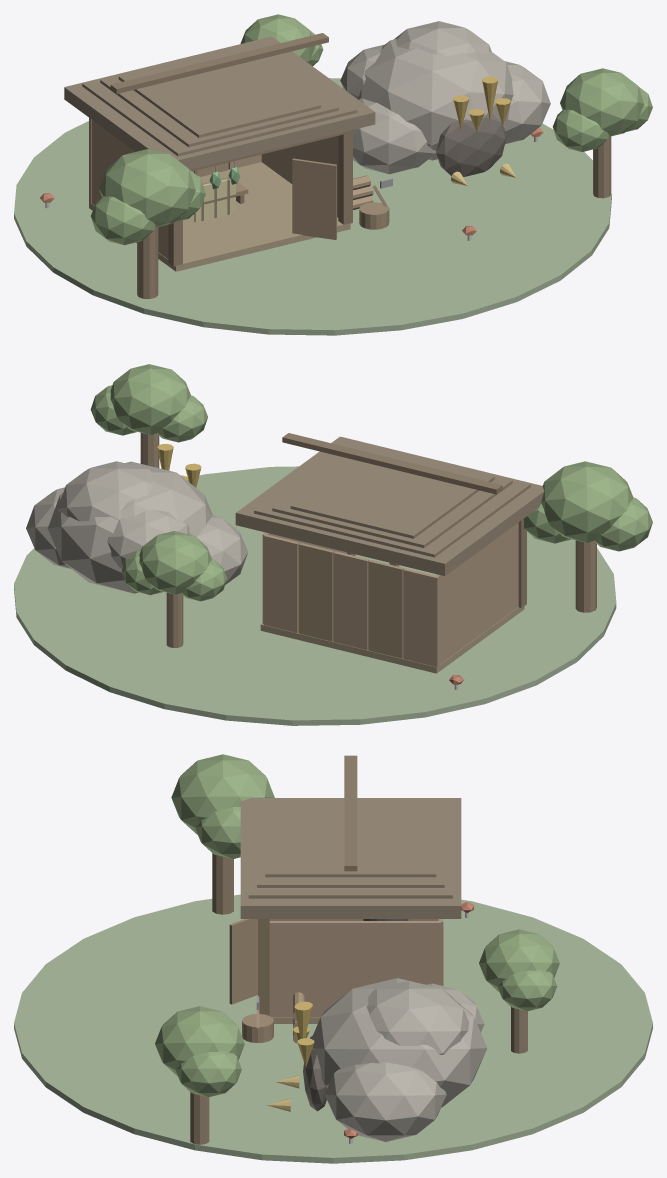
Rendered from yamanba.glb.
3 views of the same model, one above another, from view 1: azimuth 30°, elevation 25°; view 2: azimuth 150°, elevation 25°; view 3: azimuth 270°, elevation 25° (orthographic). The views are drawn at different scales.
Visible parts, largest first — view 1: part_10, part_06, part_14, part_05, part_13, part_04, part_08, part_15, part_01, part_07, part_20, part_23 (+1 smaller); view 2: part_10, part_06, part_05, part_15, part_14, part_12, part_04, part_07, part_13, part_20; view 3: part_10, part_06, part_14, part_05, part_15, part_08, part_07, part_04, part_01, part_20.
Boxes of the visible parts, x1,y1,x2,y2 form: part_10: (14,78,611,335); part_06: (64,36,375,169); part_14: (340,21,550,174); part_05: (90,14,652,245); part_13: (89,162,350,271); part_04: (110,33,352,266); part_08: (202,158,389,239); part_15: (89,118,387,258); part_01: (436,113,506,176); part_07: (137,136,611,298); part_20: (453,76,510,131); part_23: (194,178,235,222); part_10: (14,466,616,725); part_06: (235,436,544,575); part_05: (90,364,652,601); part_15: (262,522,518,667); part_14: (26,461,248,593); part_12: (298,543,404,658); part_04: (282,433,526,608); part_07: (140,433,596,647); part_13: (260,606,524,673); part_20: (157,444,201,487); part_10: (14,894,652,1163); part_06: (240,798,461,918); part_14: (311,978,487,1141); part_05: (155,754,559,1097); part_15: (256,919,443,1028); part_08: (229,919,273,1042); part_07: (190,853,527,1144); part_04: (258,755,357,1015); part_01: (303,1036,327,1111); part_20: (293,1001,314,1067).
Size of the model in its own units: 23.36 by 6.6 by 22.
